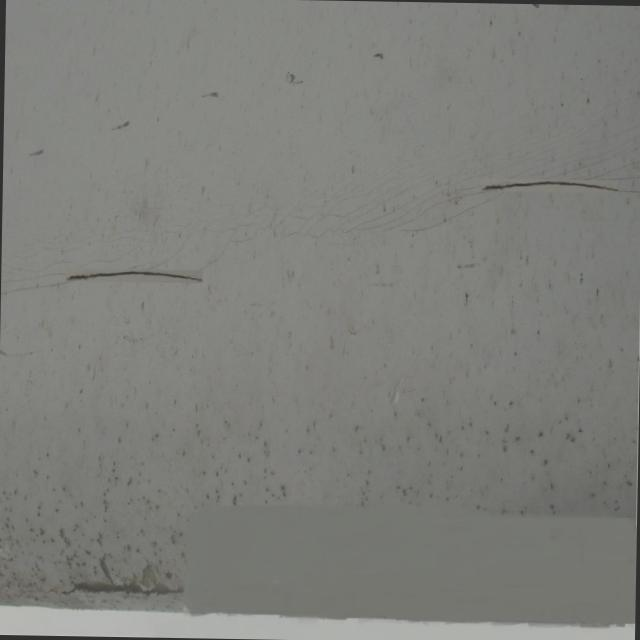crack: (62, 265, 207, 288), (479, 178, 622, 196)
